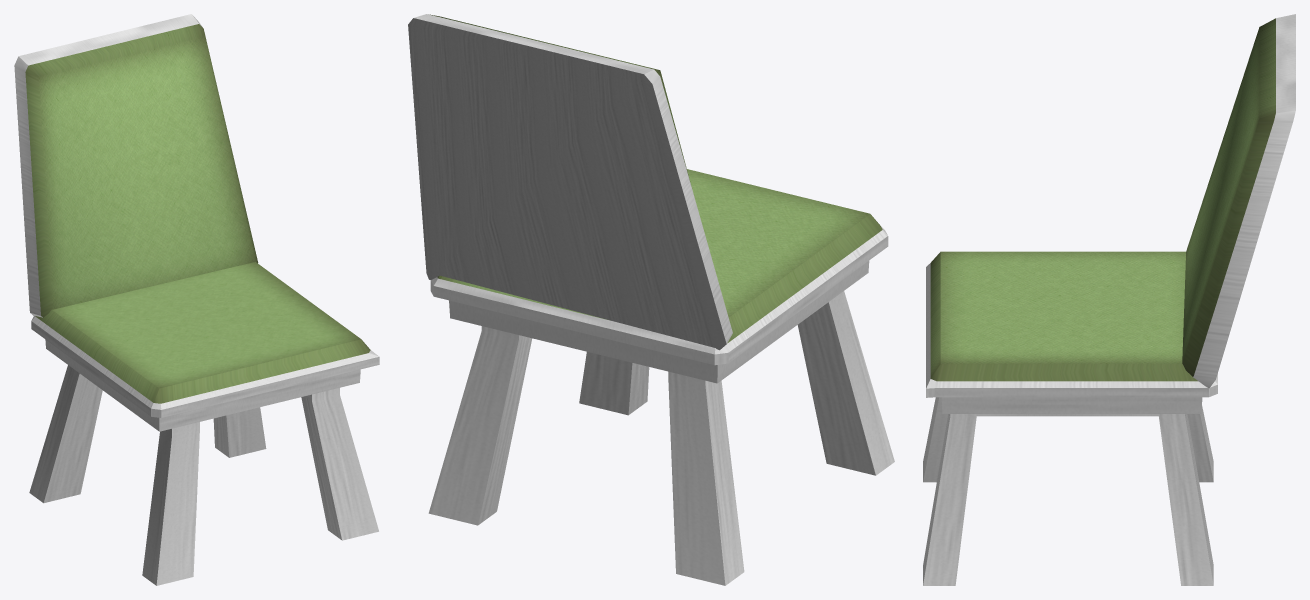
File: Dining_Room_Chair_D_2.FBX
The picture shows the model from 3 angles, left to right: view 1: azimuth 30°, elevation 25°; view 2: azimuth 150°, elevation 25°; view 3: azimuth 270°, elevation 25°; orthographic projection. The views are drawn at different scales.
Visible parts, largest first — view 1: Dining_Chair; view 2: Dining_Chair; view 3: Dining_Chair.
Boxes of the visible parts, x1,y1,x2,y2 form: Dining_Chair: (14,14,379,585); Dining_Chair: (408,14,894,585); Dining_Chair: (923,14,1295,585).
Size of the model in its own units: 121 by 208 by 152.
